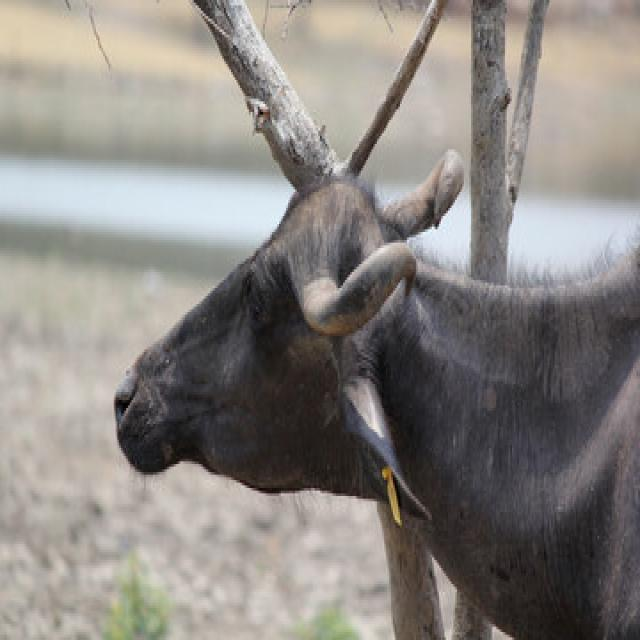Buffalo: (112, 149, 640, 640)
